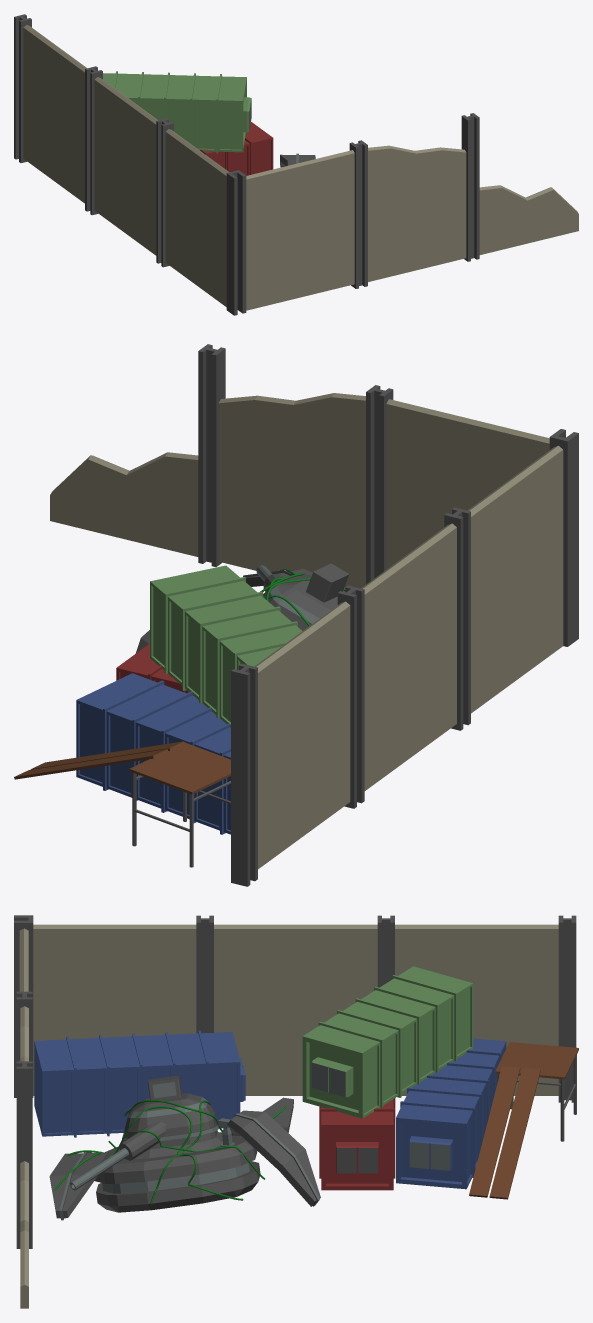
Rendered from factory_1.glb.
3 renders of one model, top to bottom at view 1: azimuth 30°, elevation 25°; view 2: azimuth 150°, elevation 25°; view 3: azimuth 270°, elevation 25°, orthographic. The views are drawn at different scales.
Visible parts, largest first — view 1: Cube.002, Cube, Cube.004, Cube.005, Cube.003, Cube.008, Cube.001, Beam.002, Beam, Beam.001, Cube.006; view 2: Cube, Cube.004, Cube.005, Cube.003, Cube.002, Cube.008, Cube.007, Beam.002, Cube.001, Beam, big_robot, Beam.001 (+4 smaller); view 3: Cube.004, big_robot, Cube.003, Cube.008, Cube.015, Cube.005, Cube.007, Cube.006, Beam.002, stairs, Beam, Cube.009-col (+6 smaller).
Boxes of the visible parts, <box> form: Cube.002: <box>246,150,354,310</box>; Cube: <box>368,145,466,281</box>; Cube.004: <box>94,77,158,255</box>; Cube.005: <box>23,25,86,203</box>; Cube.003: <box>165,129,228,306</box>; Cube.008: <box>103,71,251,153</box>; Cube.001: <box>479,185,578,254</box>; Beam.002: <box>14,14,173,267</box>; Beam: <box>349,113,479,288</box>; Beam.001: <box>226,170,246,315</box>; Cube.006: <box>200,122,273,175</box>; Cube: <box>218,393,365,588</box>; Cube.004: <box>361,523,456,790</box>; Cube.005: <box>254,601,350,869</box>; Cube.003: <box>468,445,563,713</box>; Cube.002: <box>386,399,549,569</box>; Cube.008: <box>150,565,302,727</box>; Cube.007: <box>76,673,230,834</box>; Beam.002: <box>231,507,470,886</box>; Cube.001: <box>50,452,198,556</box>; Beam: <box>198,344,393,584</box>; big_robot: <box>135,563,349,653</box>; Beam.001: <box>549,429,578,646</box>; Cube.004: <box>214,924,377,1095</box>; big_robot: <box>49,1075,320,1220</box>; Cube.003: <box>33,924,196,1095</box>; Cube.008: <box>302,966,473,1118</box>; Cube.015: <box>34,1030,245,1137</box>; Cube.005: <box>395,924,558,1095</box>; Cube.007: <box>396,1038,506,1189</box>; Cube.006: <box>319,1098,395,1190</box>; Beam.002: <box>196,915,576,1102</box>; stairs: <box>469,1066,540,1199</box>; Beam: <box>16,991,32,1248</box>; Cube.009-col: <box>495,1042,578,1079</box>.
Bounding box in the file's own units: 50.17 × 24.19 × 55.49.
